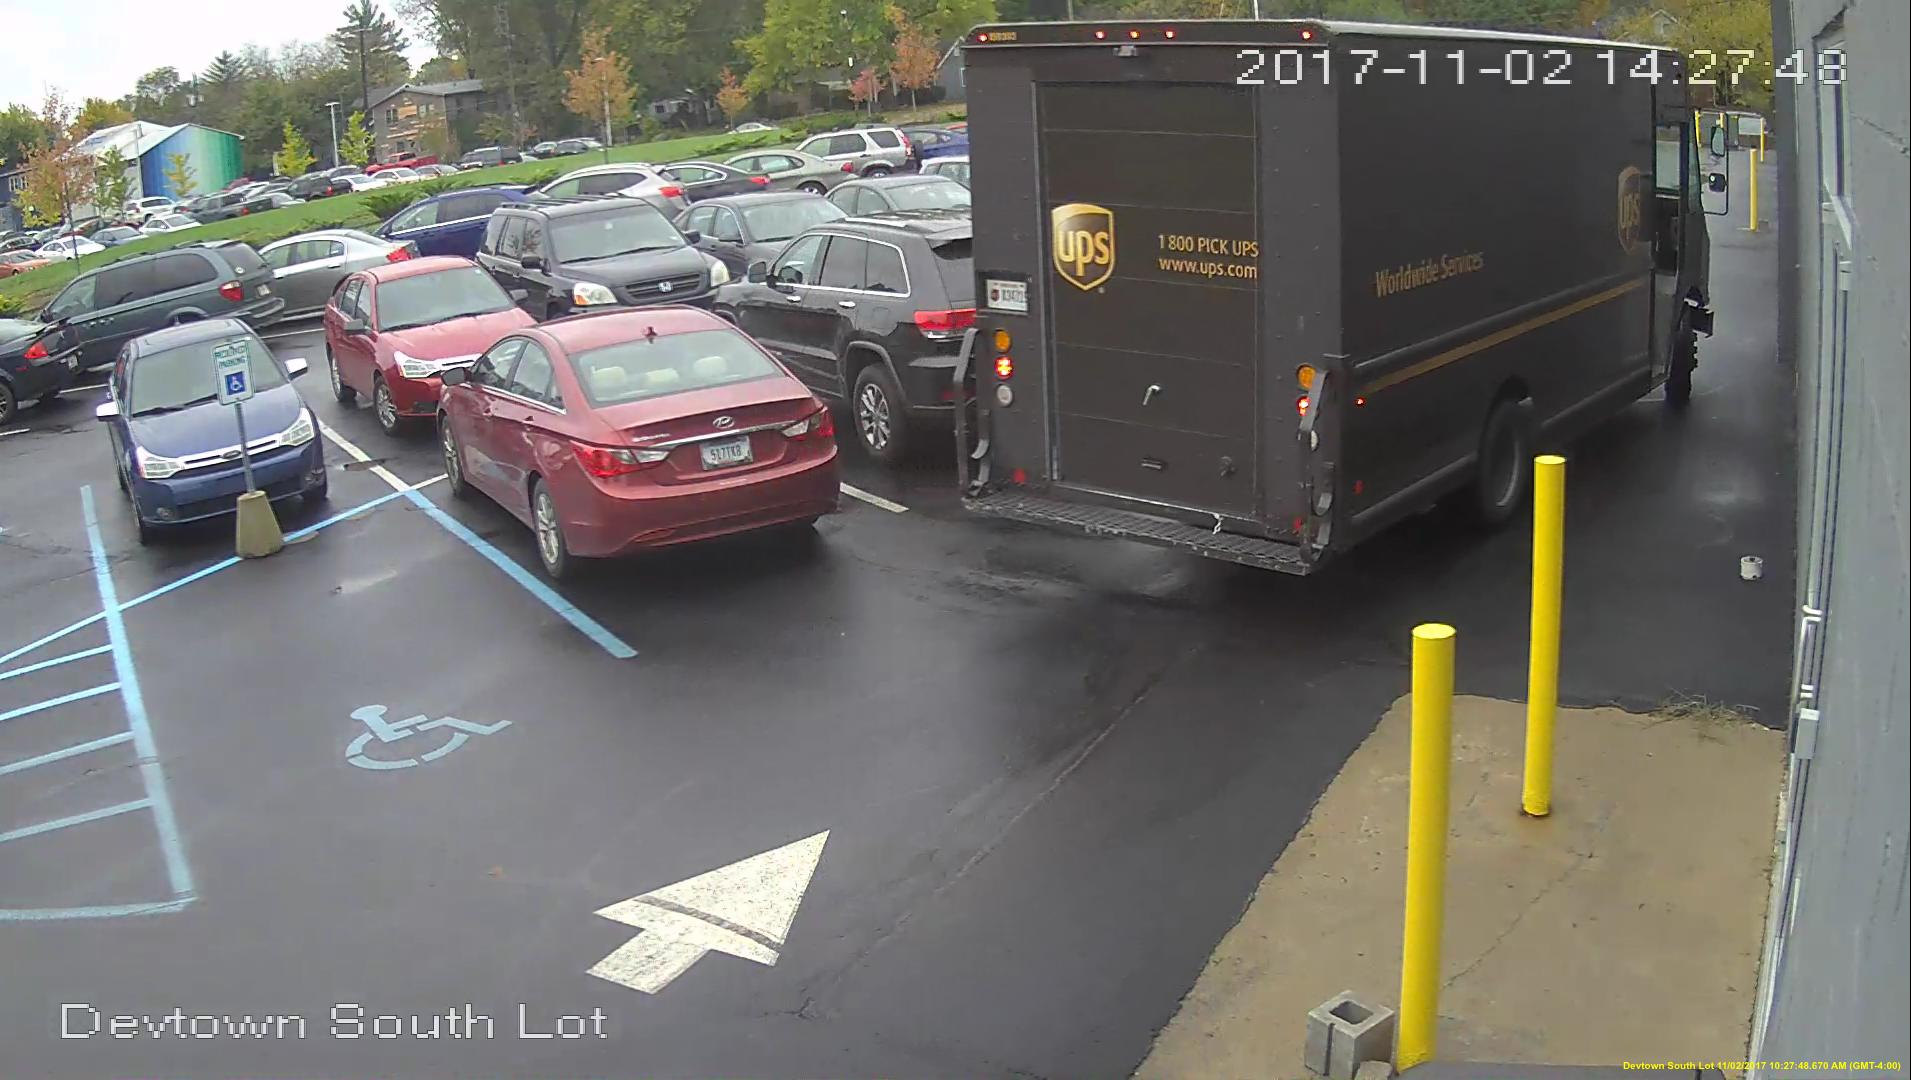ups_truck: (965, 24, 1713, 575)
